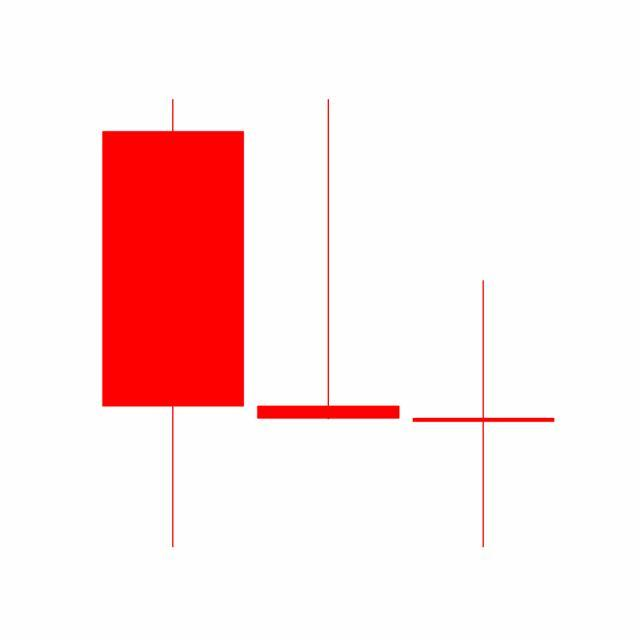Gravestone Doji: (250, 96, 407, 424)
